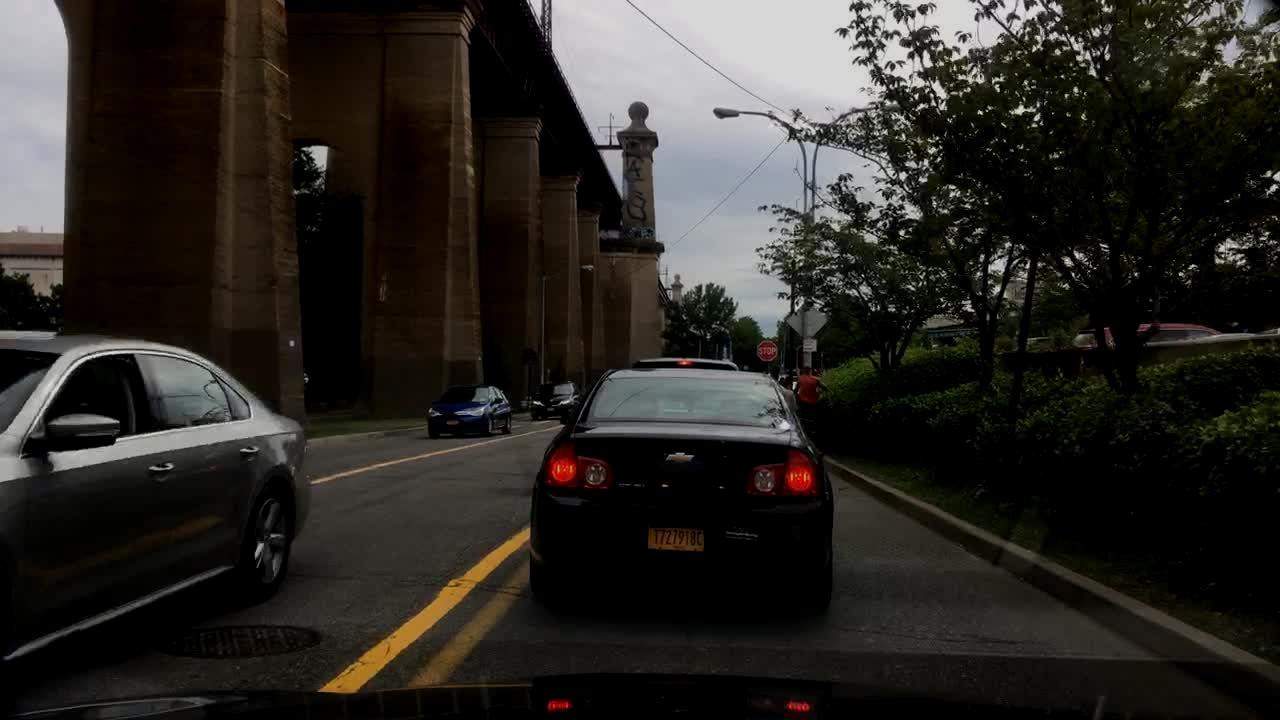chevrolet: (661, 445, 705, 472)
